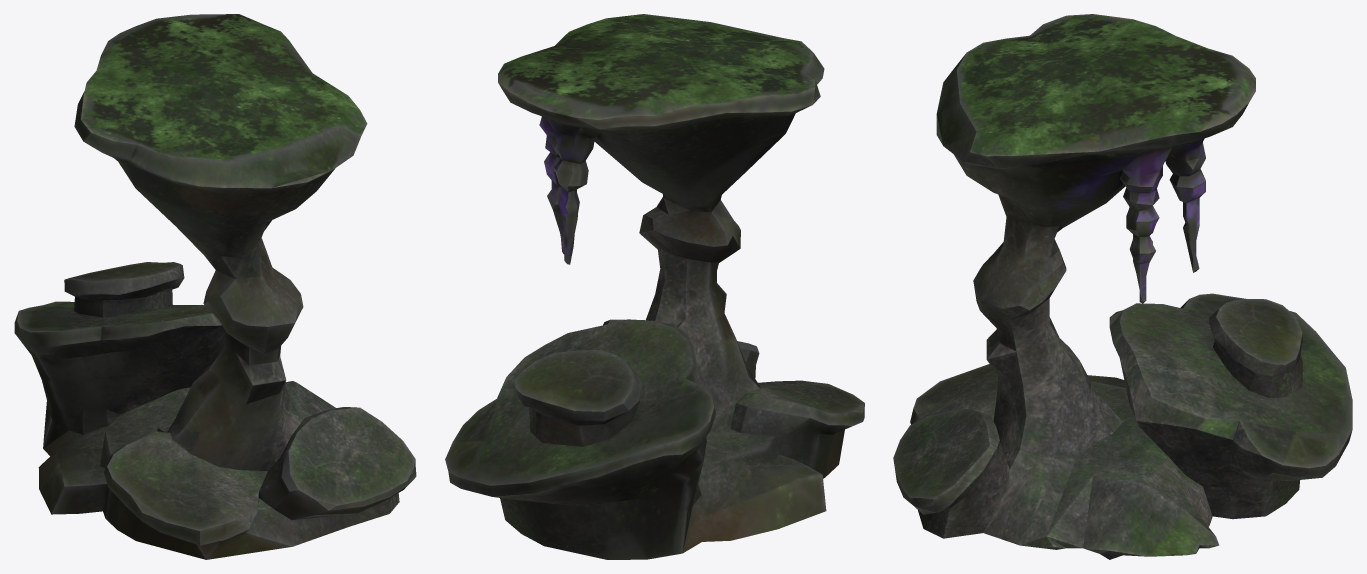
Rendered from BGEAssetsS6.fbx.
The picture shows the model from 3 angles, left to right: view 1: azimuth 30°, elevation 25°; view 2: azimuth 150°, elevation 25°; view 3: azimuth 270°, elevation 25°; orthographic projection. The views are drawn at different scales.
Parts seen in each view (by area): view 1: BGEAsset.015; view 2: BGEAsset.015; view 3: BGEAsset.015.
Part boxes in pixels (left/top/right/bottom): BGEAsset.015: left=14, top=14, right=416, bottom=559; BGEAsset.015: left=445, top=14, right=864, bottom=559; BGEAsset.015: left=893, top=14, right=1352, bottom=559.
Bounding box in the file's own units: 22.07 × 26.95 × 26.95.
1 material, 1 textured.
